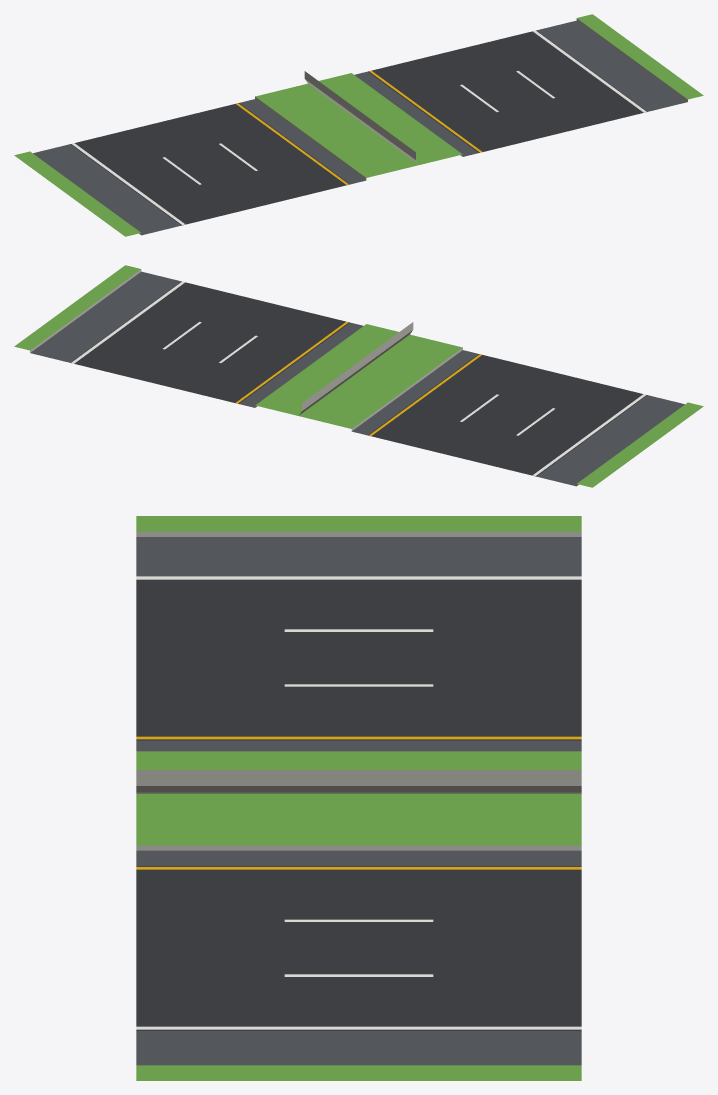
The model's file is rodovia-reta.glb.
3 views of the same model, one above another, from view 1: azimuth 30°, elevation 25°; view 2: azimuth 150°, elevation 25°; view 3: azimuth 270°, elevation 25° (orthographic). The views are drawn at different scales.
Visible parts, largest first — view 1: Asfalto, Grama, Faixas, Mureta; view 2: Asfalto, Grama, Faixas, Mureta; view 3: Asfalto, Grama, Mureta, Faixas.
Boxes of the visible parts, x1,y1,x2,y2 form: Asfalto: (33, 20, 687, 235); Grama: (14, 14, 703, 236); Faixas: (71, 30, 646, 224); Mureta: (304, 71, 418, 164); Asfalto: (30, 271, 684, 486); Grama: (14, 265, 703, 487); Faixas: (71, 281, 646, 475); Mureta: (299, 322, 413, 415); Asfalto: (136, 537, 581, 1065); Grama: (136, 516, 581, 1080); Mureta: (136, 770, 581, 793); Faixas: (136, 576, 581, 1029).
Size of the model in its own units: 36 by 0.96 by 12.
